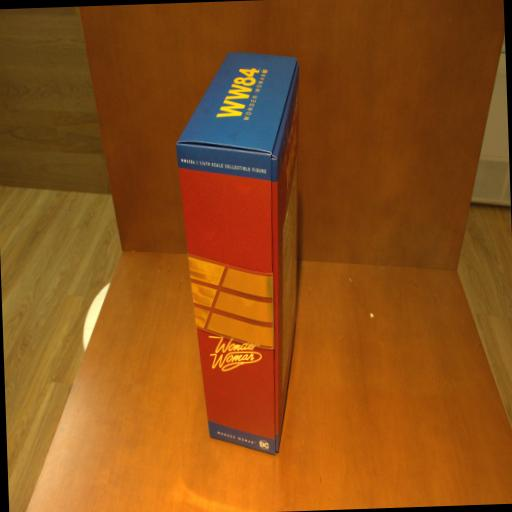WonderWoman: (172, 46, 312, 458)
